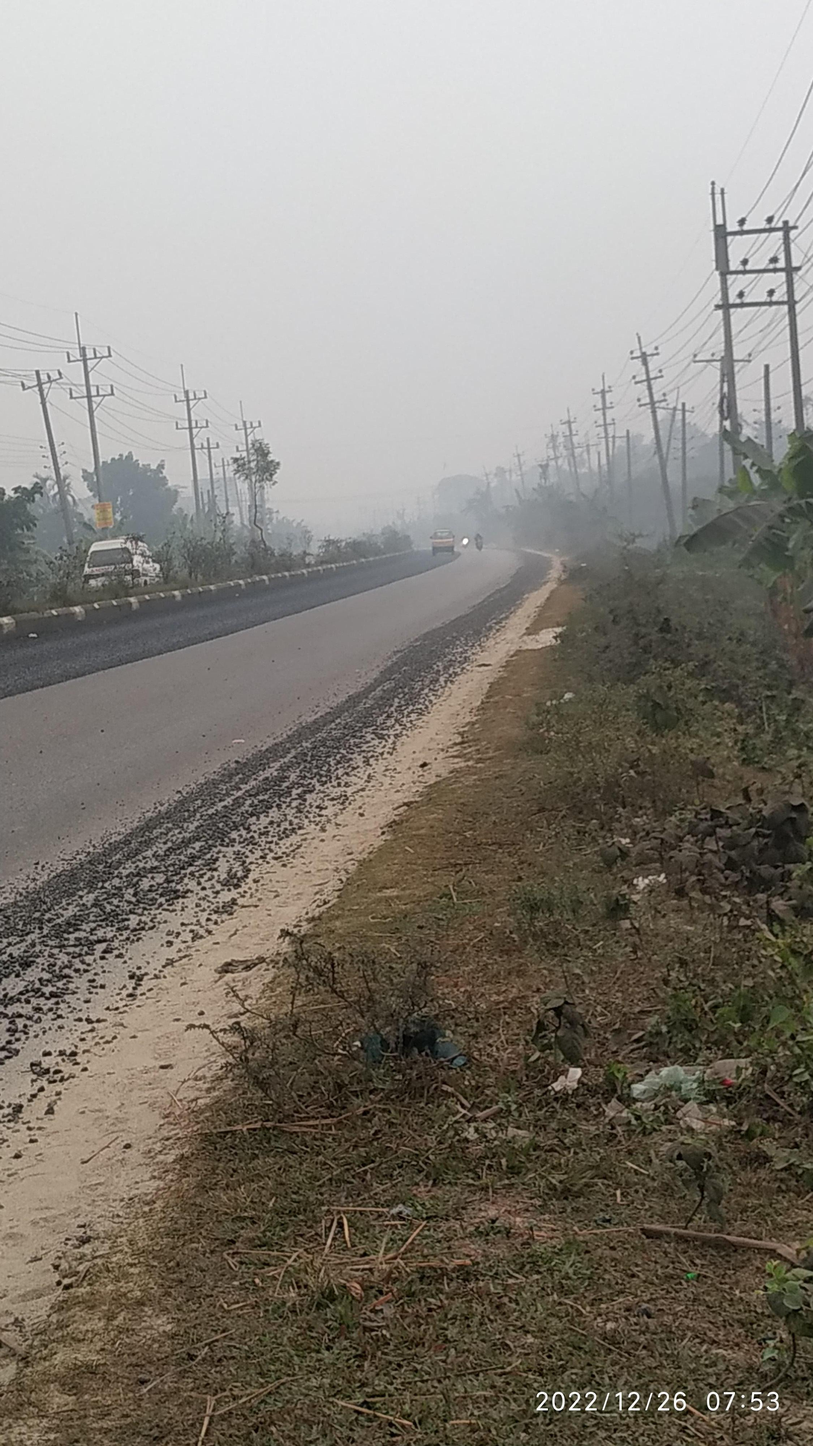Bike: (468, 524, 503, 562)
Car: (68, 515, 185, 604)
Truck: (421, 512, 462, 568)
